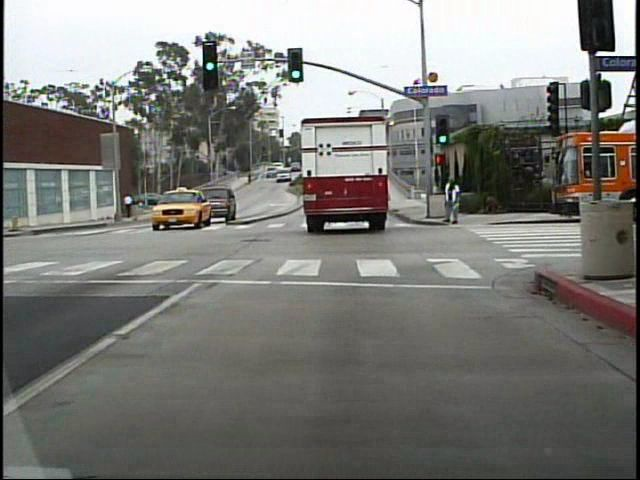person: (439, 174, 464, 228), (122, 188, 139, 220)
